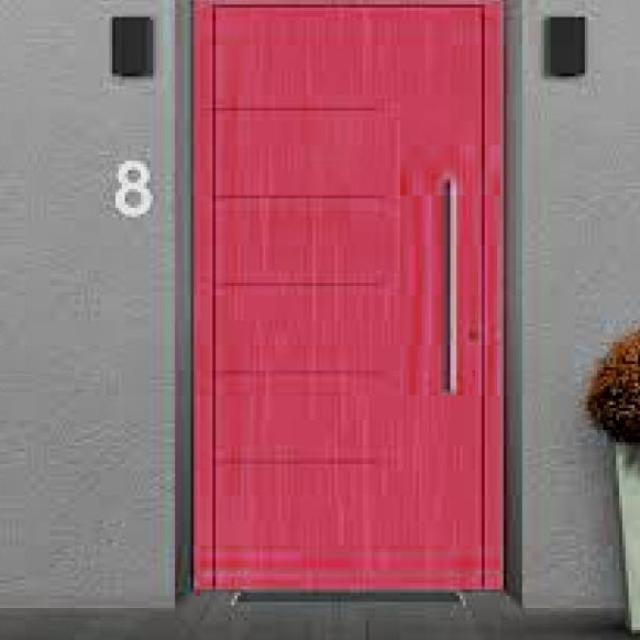door: (190, 0, 505, 594)
